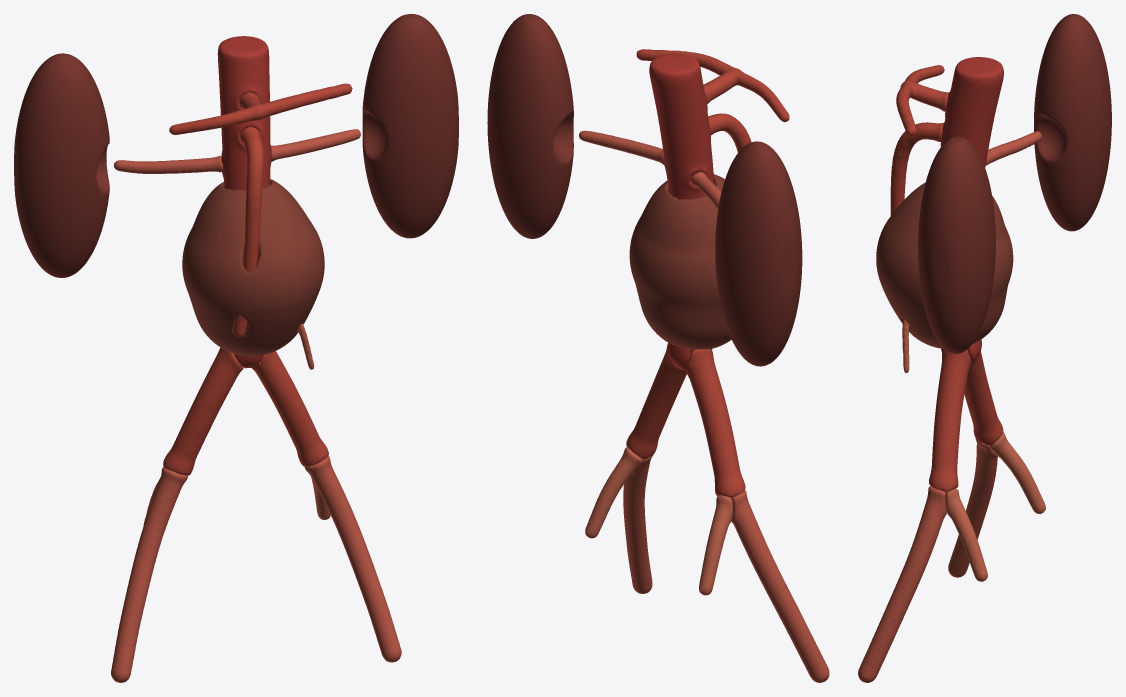
File: artery_aaa_large.glb
The picture shows the model from 3 angles, left to right: view 1: azimuth 30°, elevation 25°; view 2: azimuth 150°, elevation 25°; view 3: azimuth 270°, elevation 25°; orthographic projection. The views are drawn at different scales.
Visible parts, largest first — view 1: kidneys, aneurysm_sac, external_iliacs, common_iliacs, aorta, renal_arteries, celiac_trunk, superior_mesenteric; view 2: kidneys, aneurysm_sac, aorta, external_iliacs, common_iliacs, internal_iliacs, celiac_trunk, renal_arteries, superior_mesenteric; view 3: kidneys, aneurysm_sac, external_iliacs, common_iliacs, aorta, internal_iliacs, celiac_trunk, superior_mesenteric, renal_arteries.
Boxes of the visible parts, x1=… form: kidneys: x1=14, y1=14, x2=458, y2=277; aneurysm_sac: x1=182, y1=179, x2=324, y2=356; external_iliacs: x1=111, y1=455, x2=401, y2=682; common_iliacs: x1=163, y1=347, x2=328, y2=475; aorta: x1=217, y1=36, x2=271, y2=368; renal_arteries: x1=114, y1=129, x2=360, y2=173; celiac_trunk: x1=169, y1=83, x2=352, y2=134; superior_mesenteric: x1=233, y1=127, x2=263, y2=337; kidneys: x1=487, y1=14, x2=802, y2=366; aneurysm_sac: x1=629, y1=174, x2=731, y2=349; aorta: x1=649, y1=53, x2=714, y2=370; external_iliacs: x1=623, y1=455, x2=829, y2=682; common_iliacs: x1=626, y1=343, x2=745, y2=497; internal_iliacs: x1=585, y1=447, x2=732, y2=595; celiac_trunk: x1=636, y1=49, x2=789, y2=122; renal_arteries: x1=579, y1=130, x2=721, y2=209; superior_mesenteric: x1=708, y1=113, x2=751, y2=152; kidneys: x1=918, y1=14, x2=1111, y2=353; aneurysm_sac: x1=876, y1=182, x2=1013, y2=348; external_iliacs: x1=858, y1=438, x2=997, y2=682; common_iliacs: x1=929, y1=349, x2=1003, y2=491; aorta: x1=940, y1=57, x2=1003, y2=363; internal_iliacs: x1=945, y1=432, x2=1045, y2=581; celiac_trunk: x1=896, y1=65, x2=949, y2=136; superior_mesenteric: x1=890, y1=122, x2=943, y2=215; renal_arteries: x1=985, y1=131, x2=1041, y2=165.
Size of the model in its own units: 17.44 by 26.79 by 10.72.
